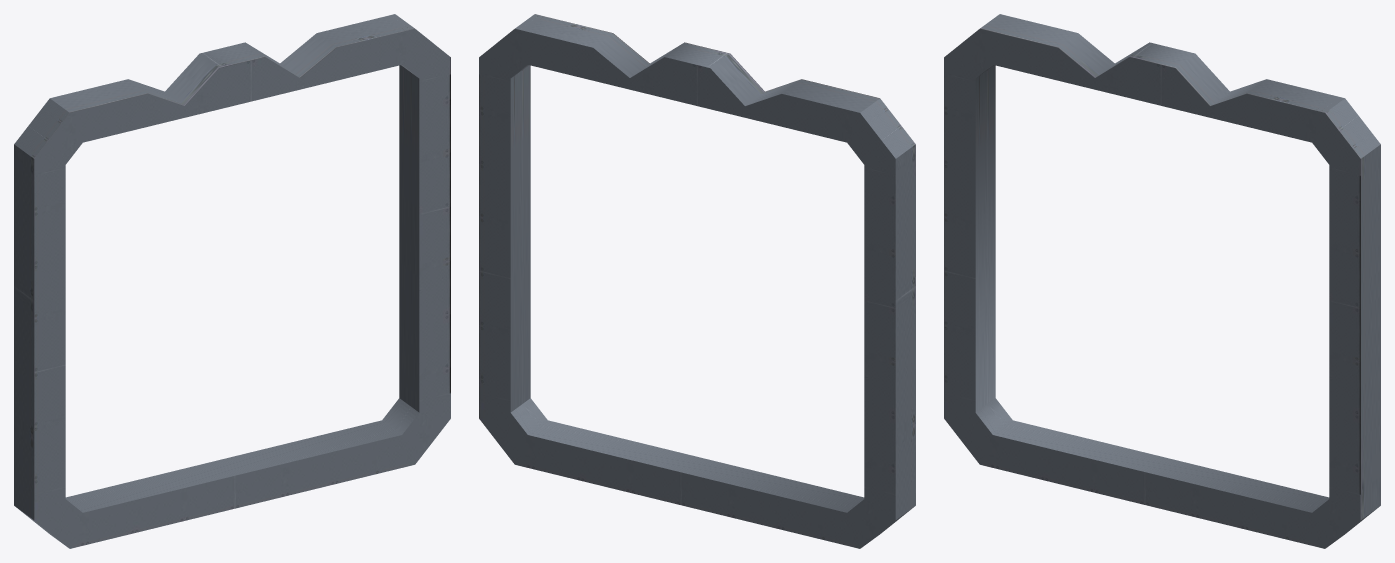
File: Frame.FBX
3 renders of one model, left to right at view 1: azimuth 30°, elevation 25°; view 2: azimuth 150°, elevation 25°; view 3: azimuth 330°, elevation 25°, orthographic.
Parts seen in each view (by area): view 1: Box029; view 2: Box029; view 3: Box029.
Boxes of the visible parts, left/top/right/bottom form: Box029: left=14, top=14, right=450, bottom=548; Box029: left=479, top=14, right=915, bottom=548; Box029: left=944, top=14, right=1380, bottom=548.
Size of the model in its own units: 118 by 120 by 9.81.
Materials: 1 (1 with a texture image).
